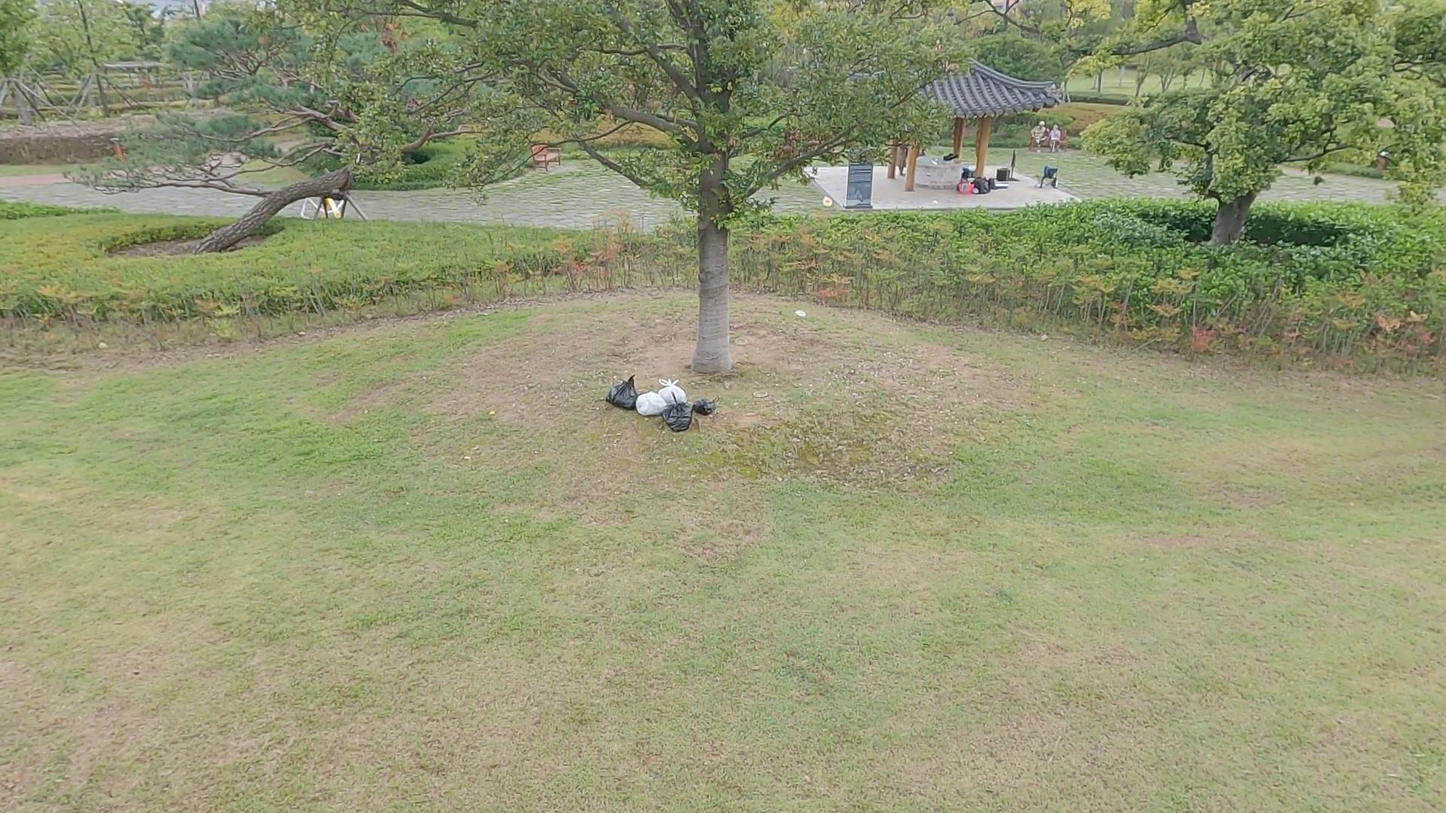trash: (604, 365, 642, 420), (656, 400, 698, 438), (630, 385, 666, 425), (655, 376, 690, 410), (688, 392, 719, 419)
